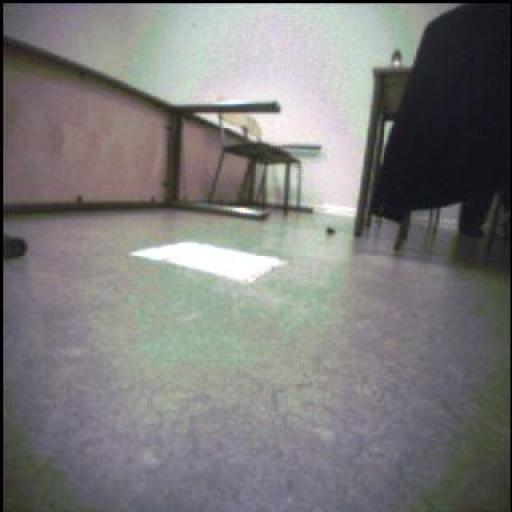Pad: (132, 243, 286, 284)
